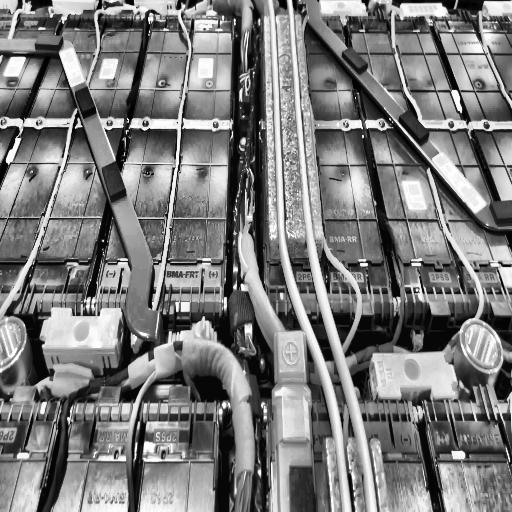busbar: (0, 33, 165, 349), (296, 0, 512, 229)
high_volt_cable: (238, 8, 510, 511), (39, 5, 260, 512), (265, 0, 382, 512), (0, 9, 105, 321)
low_volt_cable: (226, 10, 270, 510)
